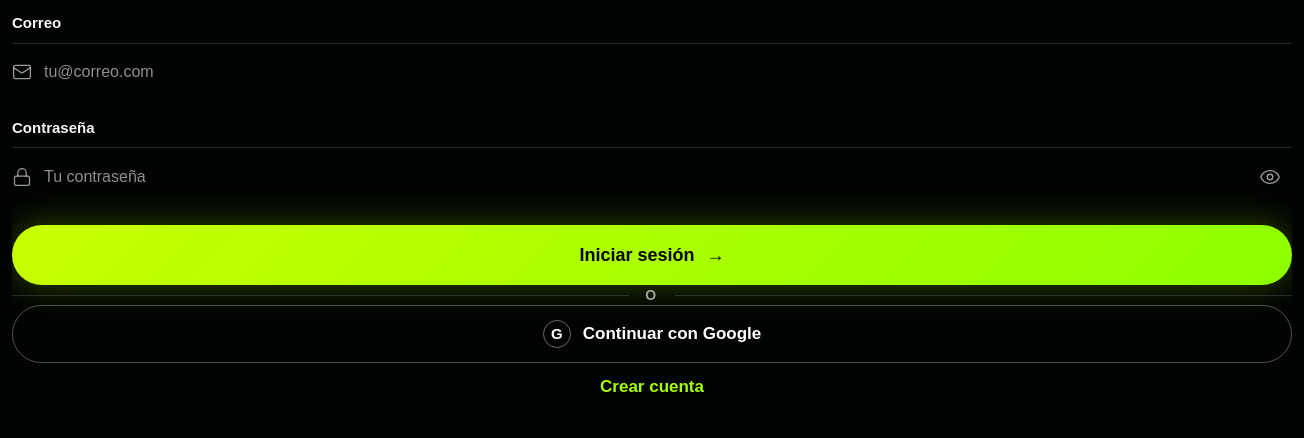
LoginForm › shows the error under the password field
This screenshot has width=1304, height=438.
Type "a@b.co" into the field labelled "Correo" at (668, 72), box [44,44,1292,100]
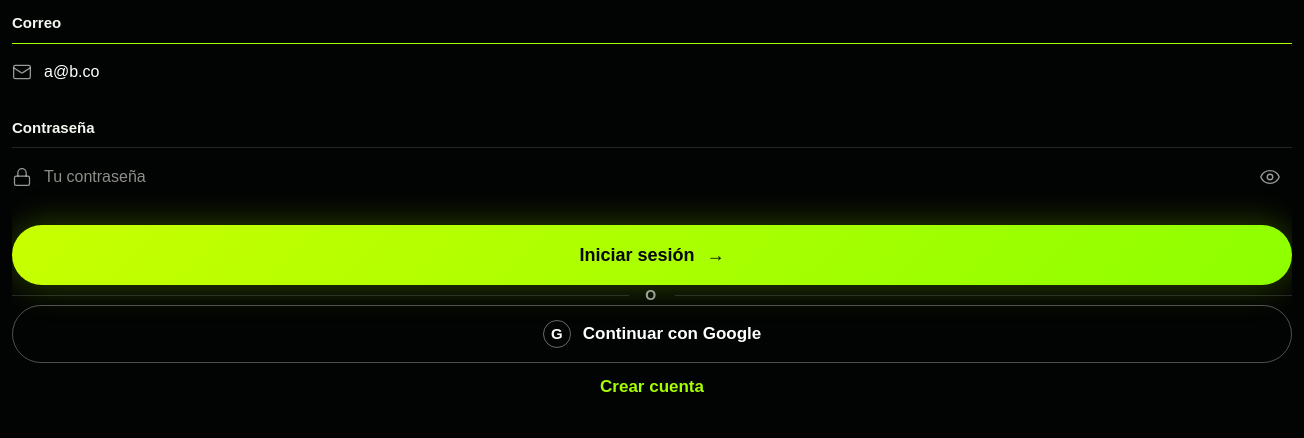
Type "nope" into the password field labelled "Contraseña" at (640, 176), box [44,148,1236,205]
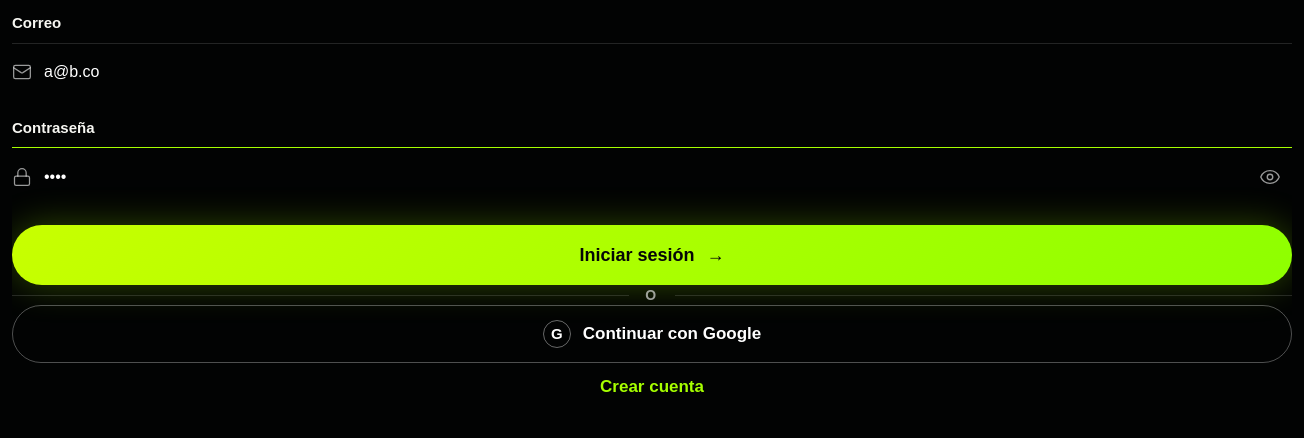
Click the button "Iniciar sesión →" at (652, 255), box [12,225,1292,285]
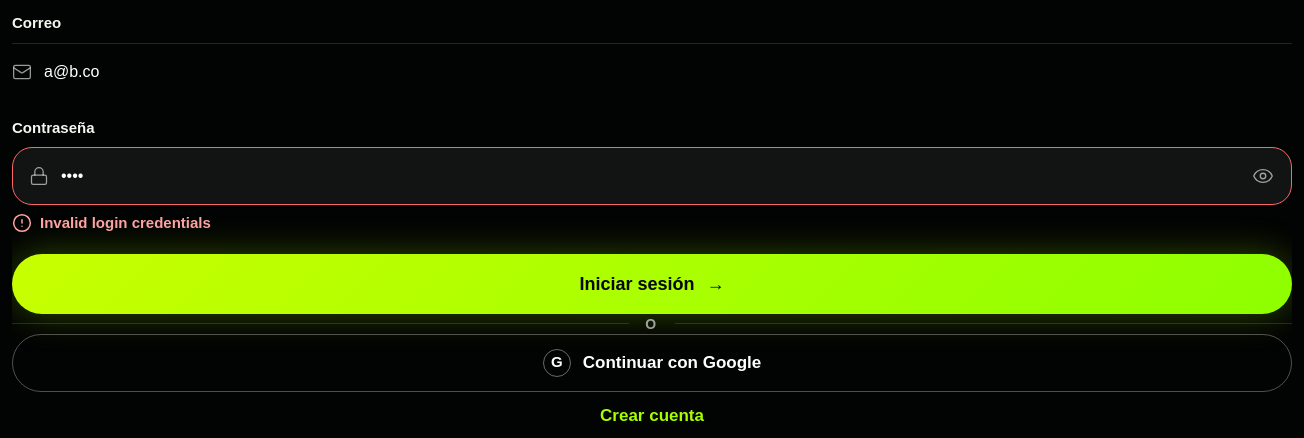
expect the message reads "Invalid login credentials": met, box [40,214,211,231]
